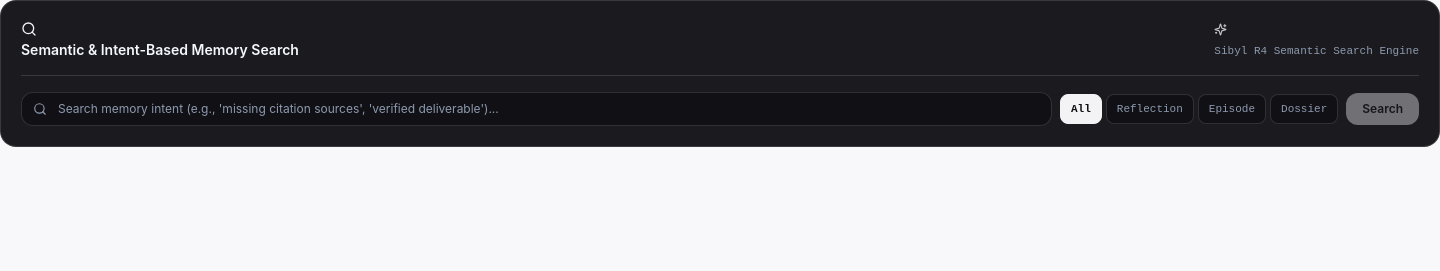
Scenario: Milestone 4 Web UI Adversarial & Empirical Stress Tests › 5. CounterpartySemanticSearch Edge Cases › displays empty state correctly when API returns 0 results
In the field with test id "semantic-search-input": (536, 109) [21,92,1052,126], type "zero_results_query"
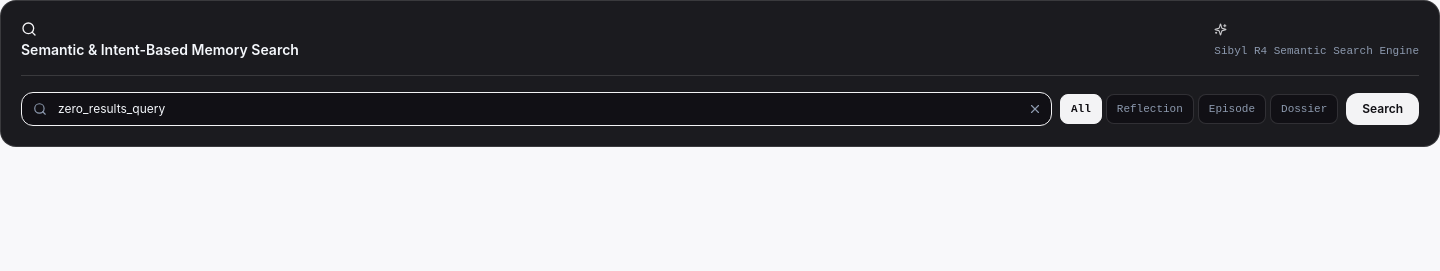
Click the button with test id "semantic-search-submit": (1383, 109) [1346,93,1419,125]
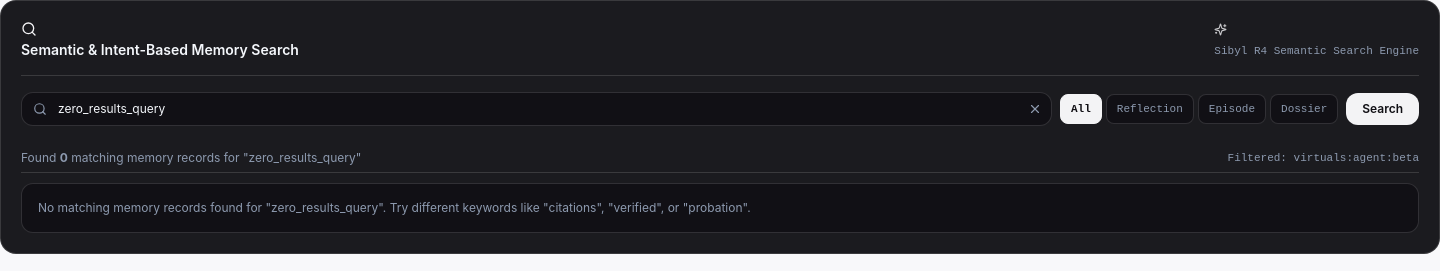
Expected: the element with test id "semantic-search-results" shows "Found 0 matching memory records for \"zero_results_query\"", [21,142,1419,233]
Expected: the text with test id "semantic-search-empty" is shown, [21,183,1419,233]
Expected: the text "Filtered: virtuals:agent:beta" is shown, [1228,150,1419,166]
